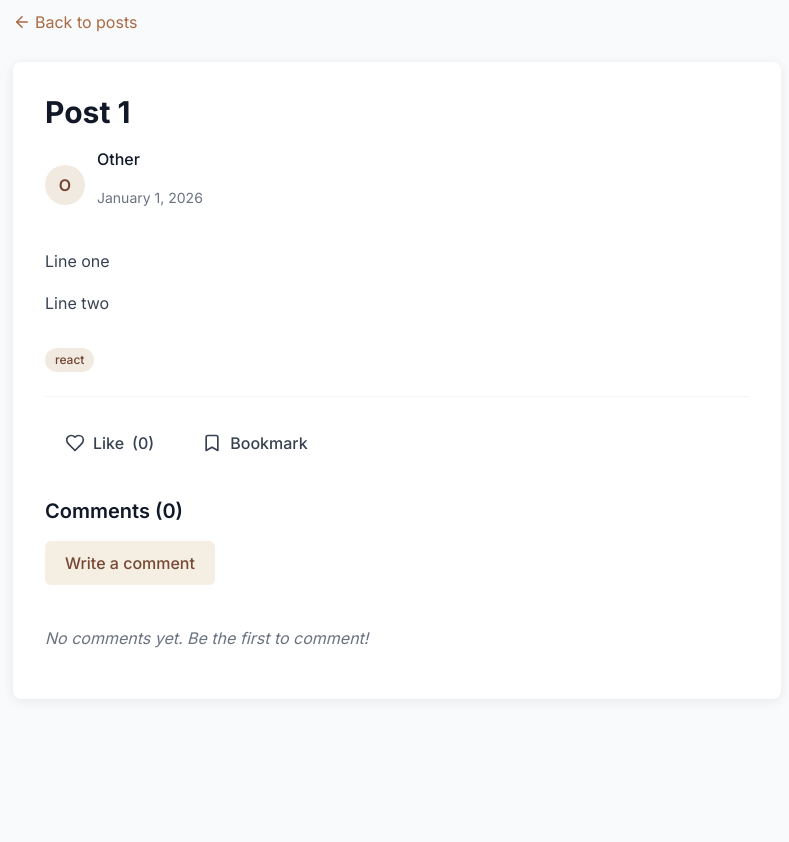
BlogPost › adds and deletes a comment end to end
Expected: the heading "Post 1" is shown, [45,94,130,130]
Click the button "Write a comment".
click(130, 563)  # box [45,541,215,585]
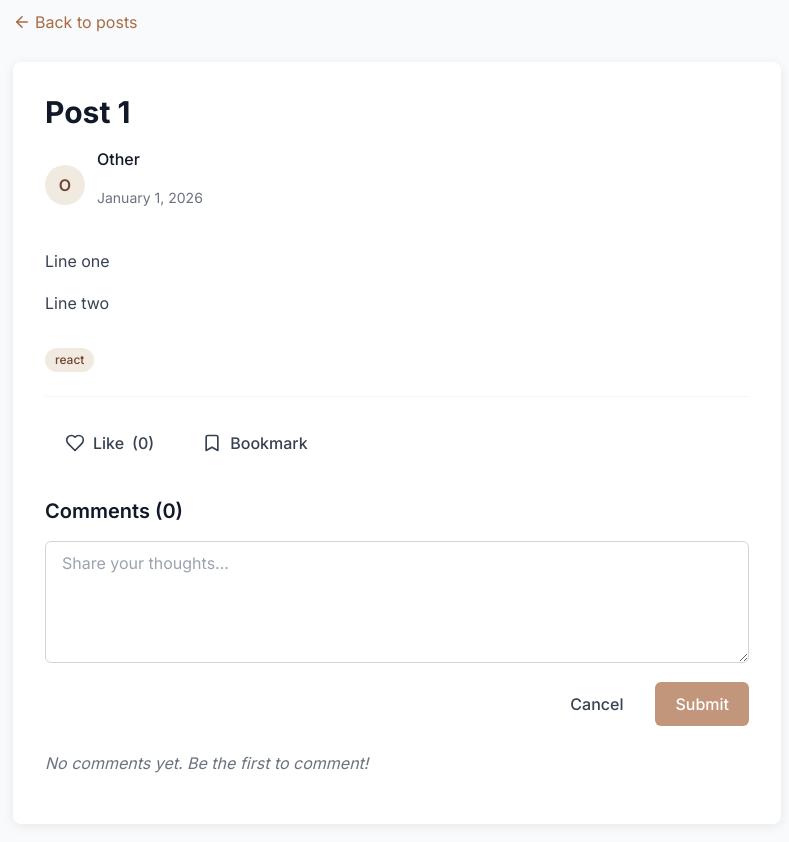
Type "Great read" into the text box with placeholder "Share your thoughts...".
click(397, 602); type("Great read")  # box [45,541,749,663]
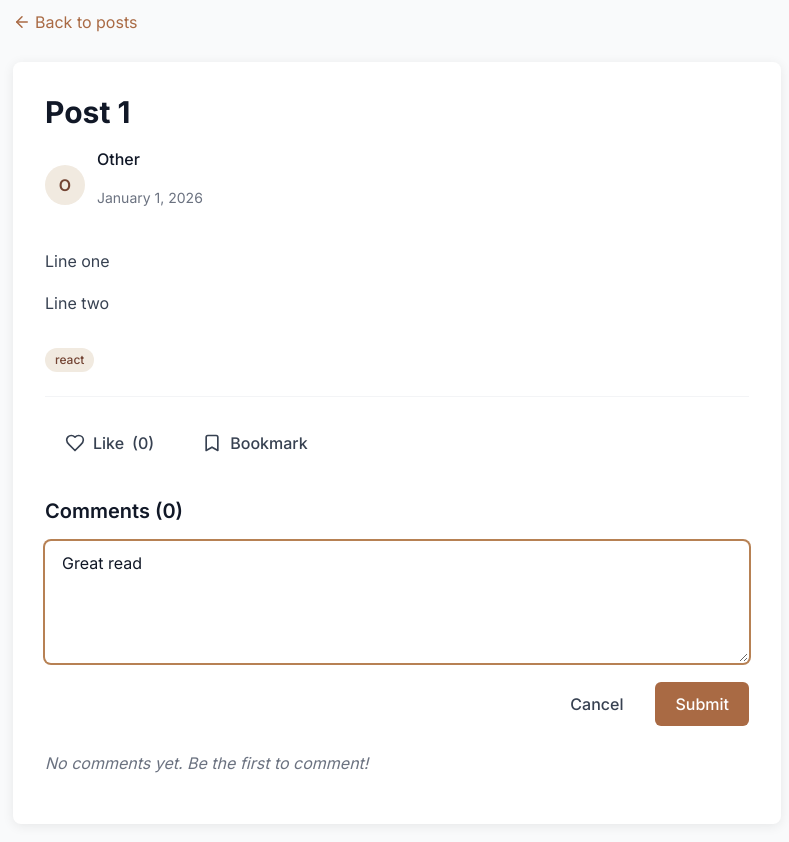
Click the button "Submit".
click(702, 704)  # box [656,682,749,726]
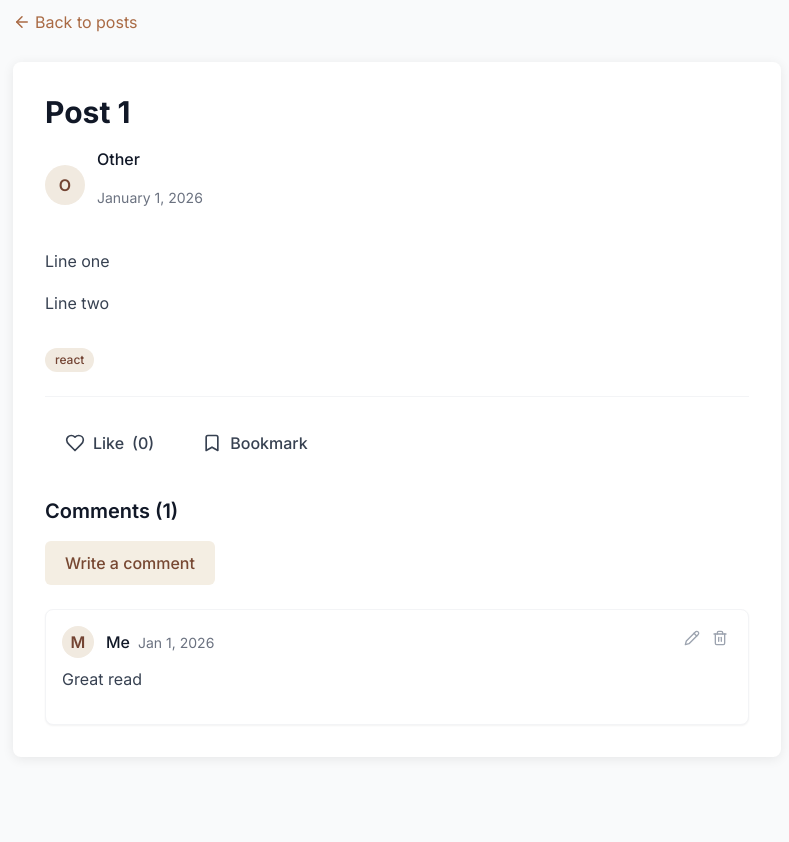
Result: the text "Great read" is shown at [62,669,142,689]
Click the button titled "Delete comment".
click(720, 638)  # box [708,626,732,650]
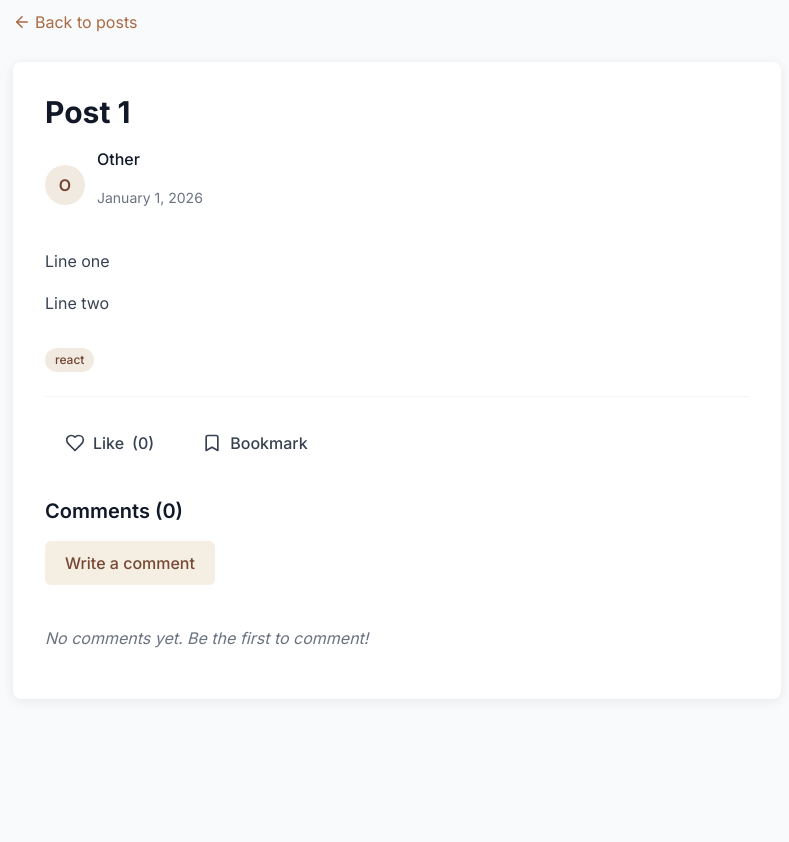
Result: the text "Great read" is gone
